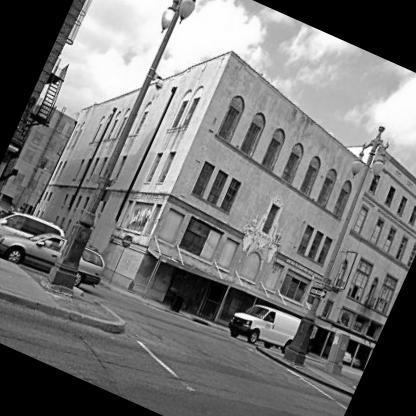car: (1, 211, 122, 308)
truck: (223, 291, 307, 363)
